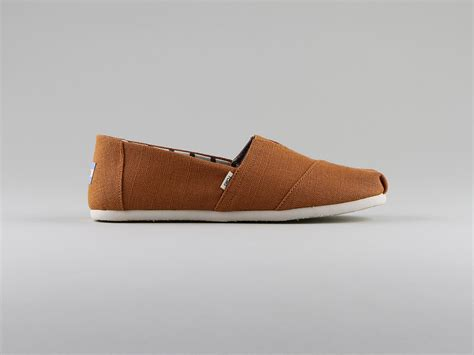nylon: (86, 134, 391, 212)
